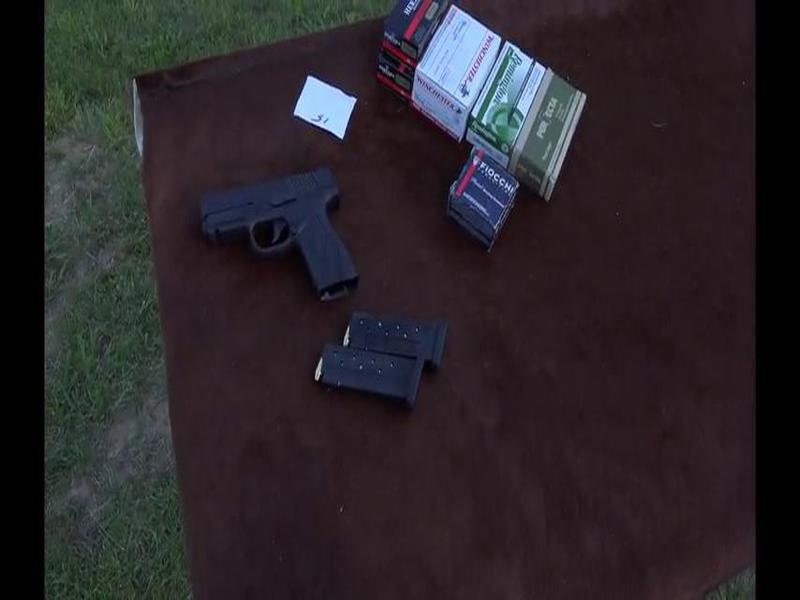Pistola: (197, 159, 372, 311)
